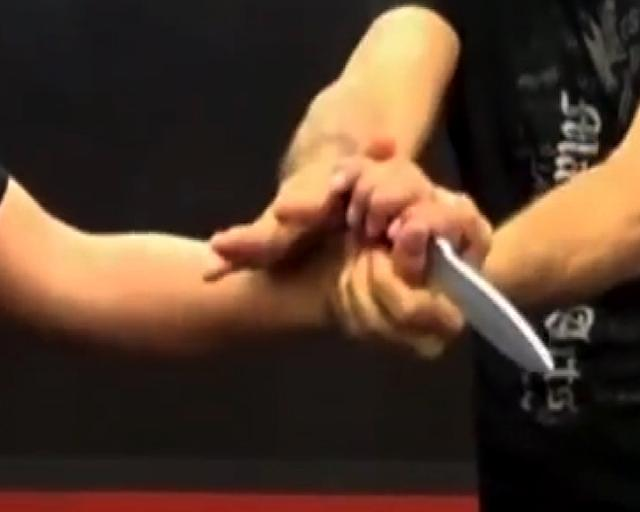pocket-knife: (358, 160, 562, 374)
